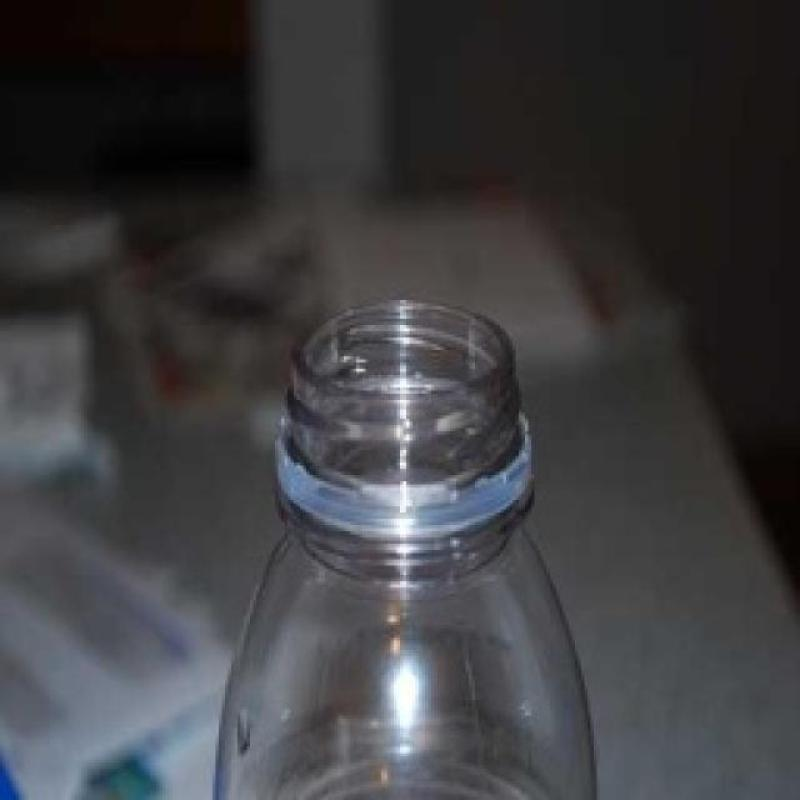botella: (209, 302, 600, 800)
